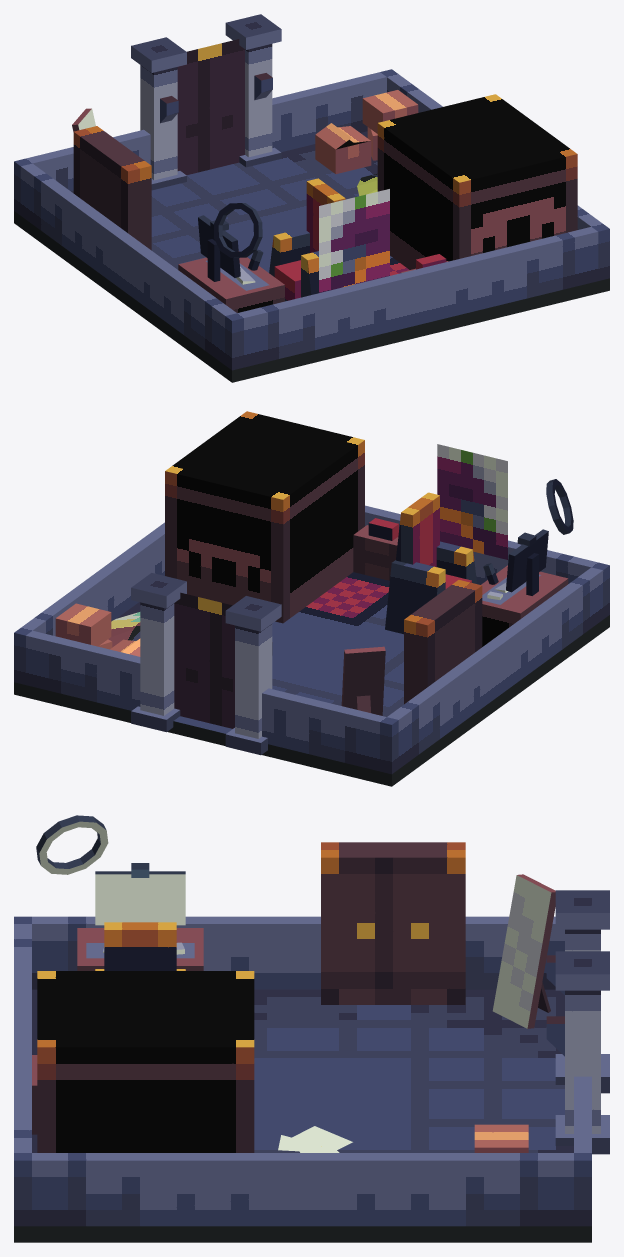
Rendered from king.glb.
3 views of the same model, one above another, from view 1: azimuth 30°, elevation 25°; view 2: azimuth 150°, elevation 25°; view 3: azimuth 270°, elevation 25° (orthographic). The views are drawn at different scales.
Visible parts, largest first — view 1: bedframe, floor, wall3, wall2, door, closet, art, cube_1, pillar_1, pillar, throne, desk (+8 smaller); view 2: bedframe, floor, wall2, door, cube, cube_1, art, throne, closet, pillar, pillar_1, wall4 (+9 smaller); view 3: floor, wall4, bedframe, closet, wall2, pillar, mirror, wall3, monitor, pillar_1, throne, tube (+5 smaller).
Boxes of the visible parts, x1=… form: bedframe: x1=377, y1=94, x2=577, y2=269; floor: x1=14, y1=131, x2=609, y2=382; wall3: x1=225, y1=227, x2=600, y2=370; wall2: x1=20, y1=163, x2=243, y2=369; door: x1=177, y1=39, x2=244, y2=175; closet: x1=73, y1=126, x2=151, y2=250; art: x1=319, y1=189, x2=389, y2=292; cube_1: x1=272, y1=69, x2=395, y2=152; pillar_1: x1=131, y1=37, x2=186, y2=190; pillar: x1=225, y1=14, x2=281, y2=167; throne: x1=269, y1=178, x2=345, y2=301; desk: x1=178, y1=251, x2=284, y2=312; bedframe: x1=165, y1=411, x2=364, y2=623; floor: x1=14, y1=572, x2=609, y2=786; wall2: x1=380, y1=565, x2=609, y2=774; door: x1=174, y1=592, x2=234, y2=728; cube: x1=262, y1=688, x2=398, y2=773; cube_1: x1=14, y1=630, x2=140, y2=710; art: x1=437, y1=444, x2=507, y2=559; throne: x1=385, y1=492, x2=476, y2=634; closet: x1=404, y1=580, x2=482, y2=704; pillar: x1=131, y1=573, x2=186, y2=732; pillar_1: x1=225, y1=596, x2=281, y2=755; wall4: x1=14, y1=522, x2=164, y2=636; floor: x1=14, y1=989, x2=591, y2=1242; wall4: x1=14, y1=1153, x2=591, y2=1226; bedframe: x1=37, y1=971, x2=254, y2=1152; closet: x1=321, y1=842, x2=465, y2=1004; wall2: x1=32, y1=916, x2=564, y2=989; pillar: x1=555, y1=951, x2=609, y2=1154; mirror: x1=492, y1=874, x2=555, y2=1028; wall3: x1=14, y1=916, x2=31, y2=1226; monitor: x1=95, y1=871, x2=185, y2=925; pillar_1: x1=555, y1=890, x2=609, y2=1093; throne: x1=95, y1=922, x2=185, y2=970; tube: x1=36, y1=815, x2=108, y2=874.
Bounding box in the file's own units: 5 × 1.95 × 5.16.
1 material, 1 textured.
